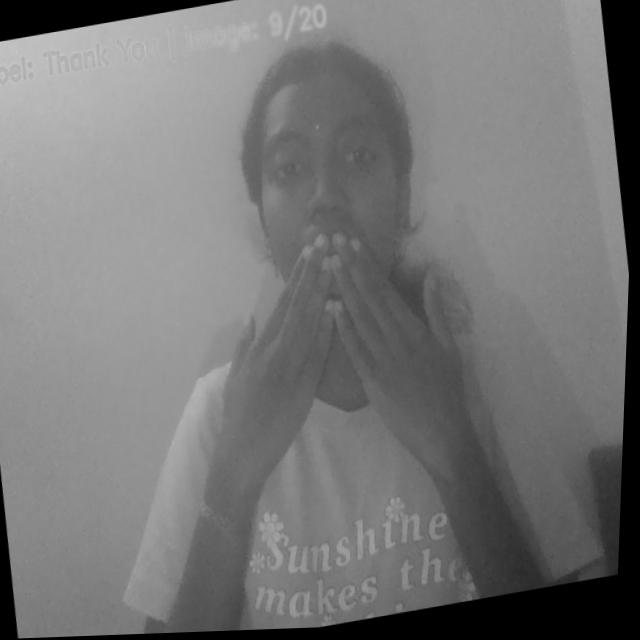Thank You: (198, 211, 487, 475)
